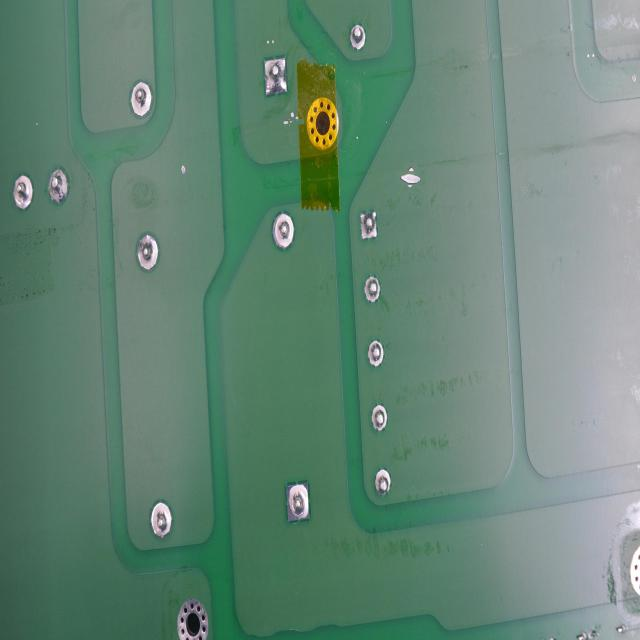spillover: (399, 166, 422, 189), (285, 114, 300, 129), (180, 159, 187, 178)
